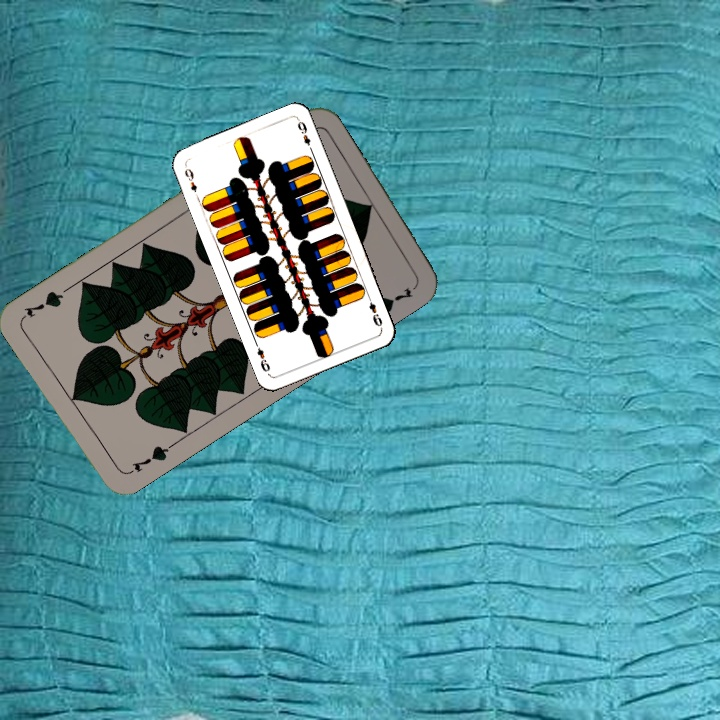E9: (363, 292, 385, 331), (180, 162, 202, 201)
G7: (122, 440, 175, 478)
